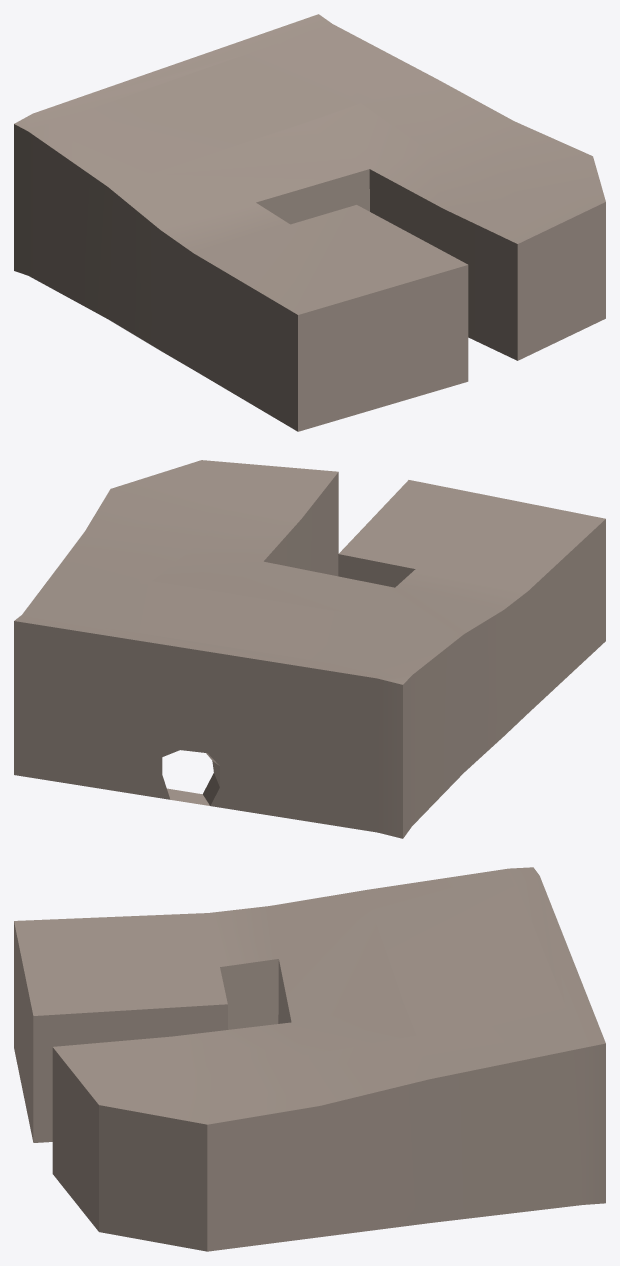
The model's file is Building_Block_2.fbx.
3 renders of one model, top to bottom at view 1: azimuth 30°, elevation 25°; view 2: azimuth 150°, elevation 25°; view 3: azimuth 270°, elevation 25°, orthographic. The views are drawn at different scales.
Visible parts, largest first — view 1: pCube19; view 2: pCube19; view 3: pCube19.
Boxes of the visible parts, <box> form: pCube19: <box>14,14,605,431</box>; pCube19: <box>14,460,605,838</box>; pCube19: <box>14,867,605,1251</box>.
Bounding box in the file's own units: 22.71 × 7.58 × 24.95.
